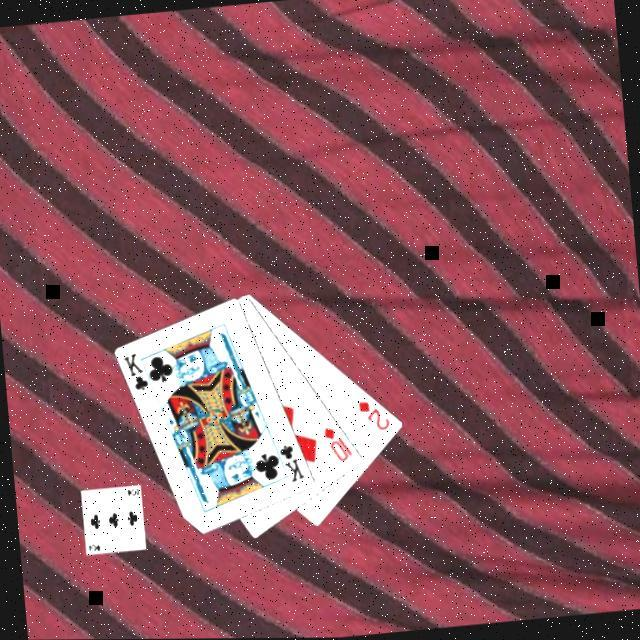10D: (318, 423, 353, 468)
2D: (352, 398, 392, 438)
KC: (118, 349, 156, 398), (268, 442, 306, 488)
